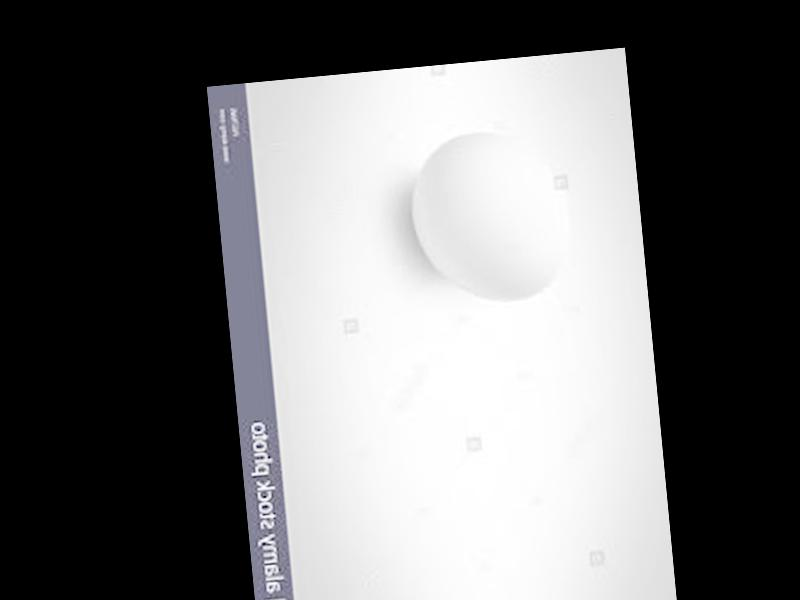Eggs: (404, 123, 573, 307)
